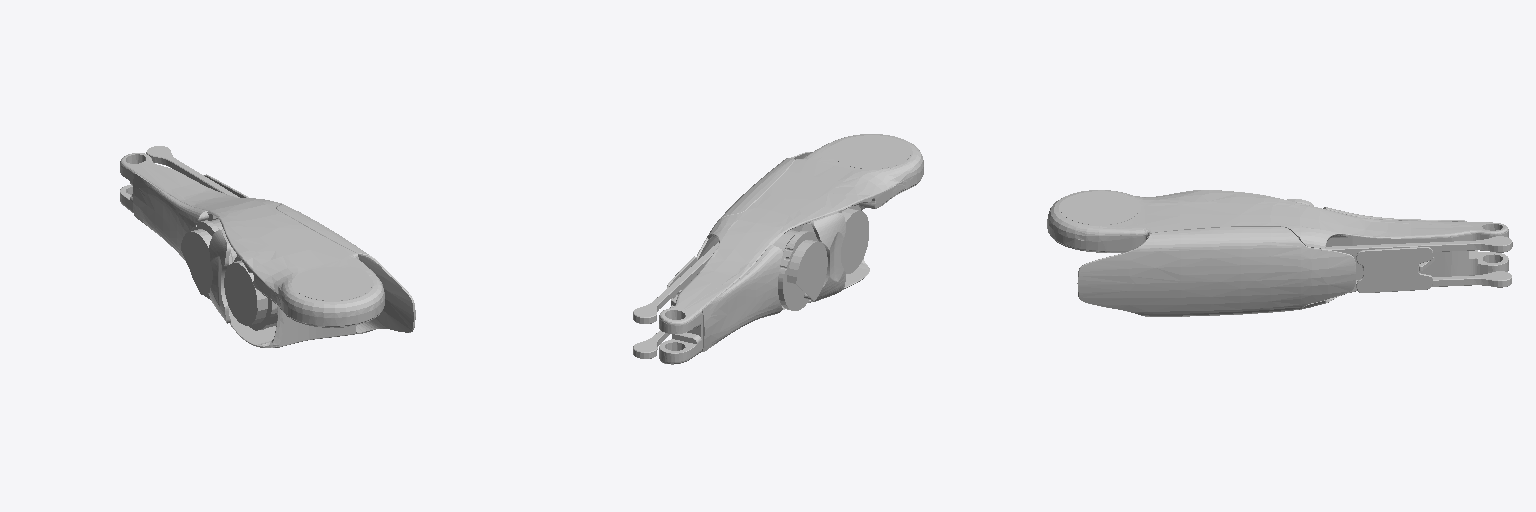
Rendered from left_knee_link_collisions.obj.
3 renders of one model, left to right at view 1: azimuth 30°, elevation 25°; view 2: azimuth 150°, elevation 25°; view 3: azimuth 270°, elevation 25°, orthographic.
Size of the model in its own units: 0.1038 by 0.0717 by 0.3551.